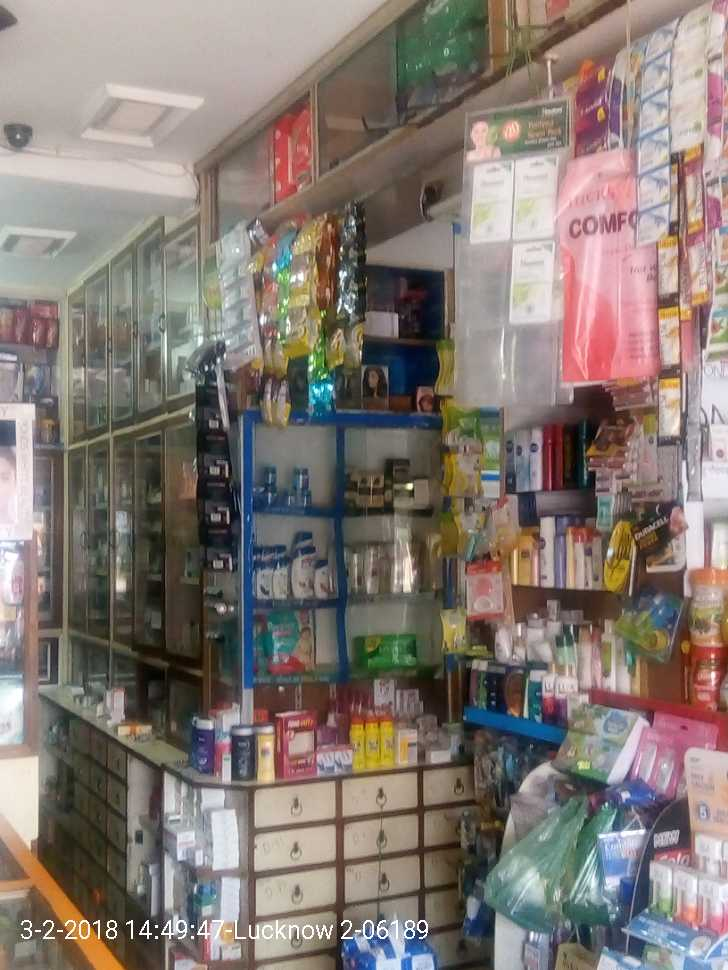beauty: (290, 543, 316, 600), (360, 545, 382, 593), (272, 557, 291, 600), (312, 558, 330, 598), (367, 472, 385, 507)
pharmacy: (354, 632, 421, 668), (291, 466, 309, 487), (261, 466, 278, 486)
